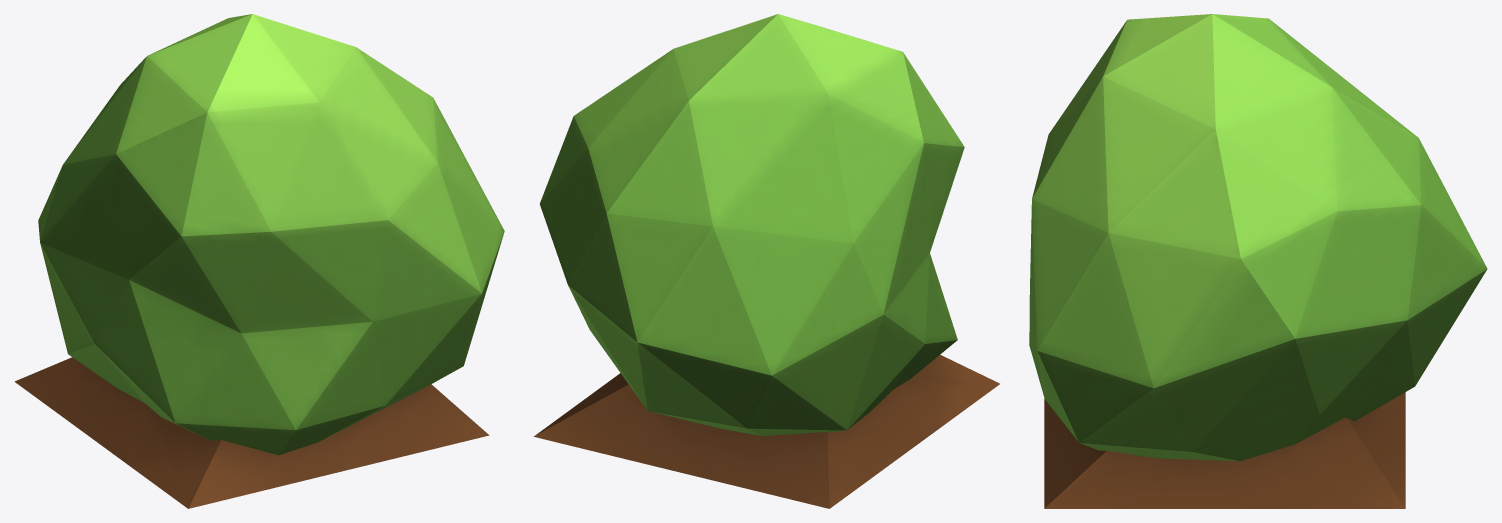
File: Buisson_B.FBX
The picture shows the model from 3 angles, left to right: view 1: azimuth 30°, elevation 25°; view 2: azimuth 150°, elevation 25°; view 3: azimuth 270°, elevation 25°; orthographic projection. The views are drawn at different scales.
Parts seen in each view (by area): view 1: Buisson_B; view 2: Buisson_B; view 3: Buisson_B.
Boxes of the visible parts, box(x1,y1,x2,y2) form: Buisson_B: box(14, 14, 504, 508); Buisson_B: box(533, 14, 999, 508); Buisson_B: box(1029, 14, 1487, 508).
Bounding box in the file's own units: 1.27 × 1.27 × 1.27.
